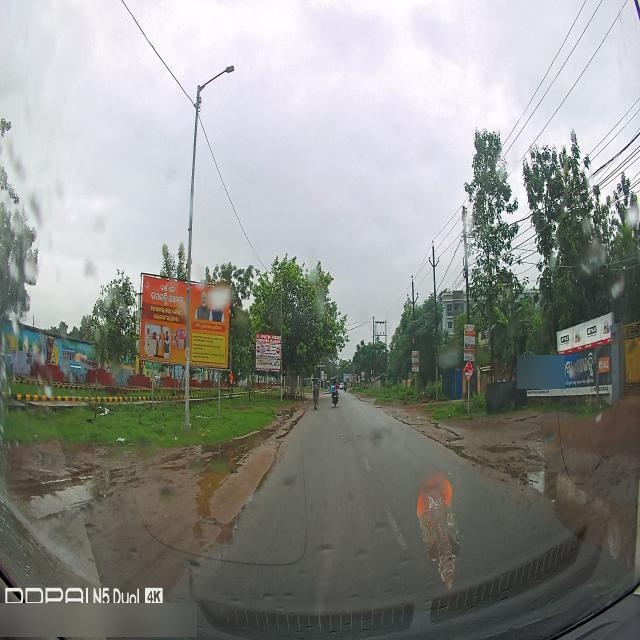pothole: (156, 412, 278, 567), (438, 421, 578, 510), (8, 476, 116, 526), (277, 398, 310, 436)
